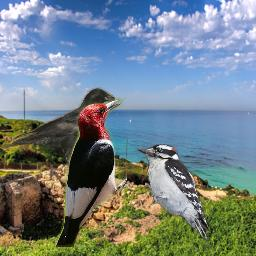Crow: (3, 87, 115, 175)
Woodpecker: (53, 97, 127, 247), (137, 144, 209, 242)
